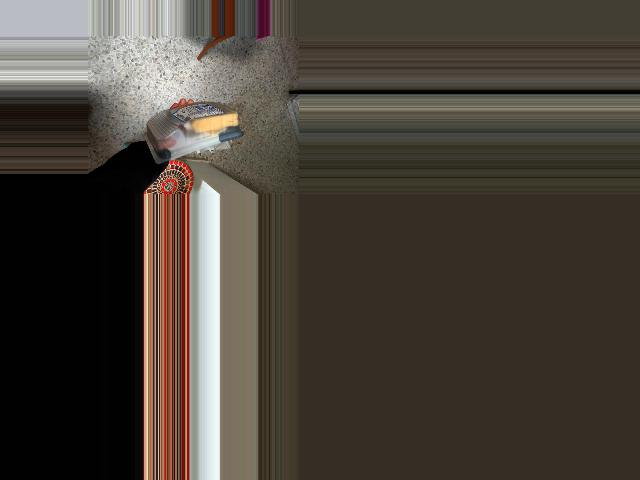cheese: (146, 101, 246, 171)
